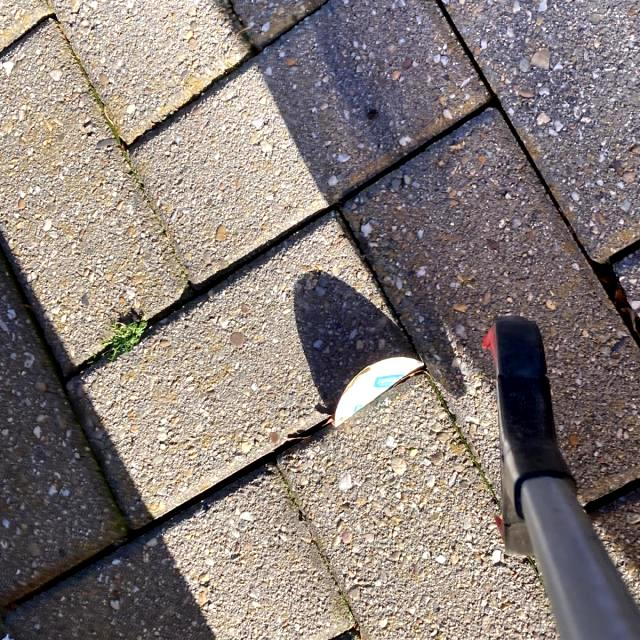Paper: (330, 354, 426, 430)
